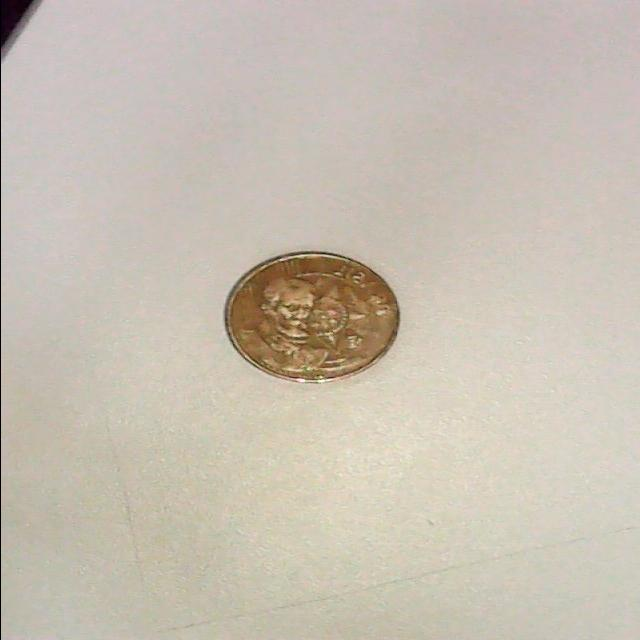25 cents: (218, 248, 408, 388)
